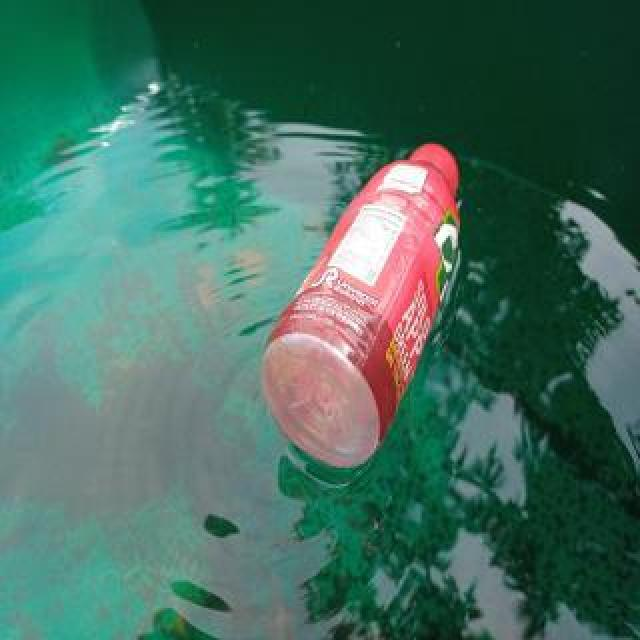bottle: (256, 139, 464, 473)
